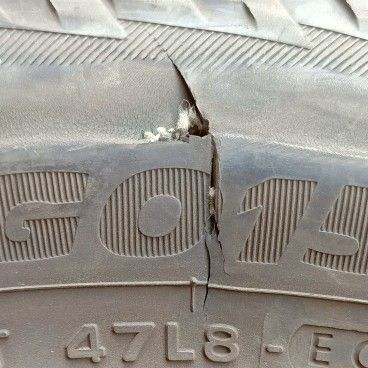cut: (143, 57, 225, 307)
